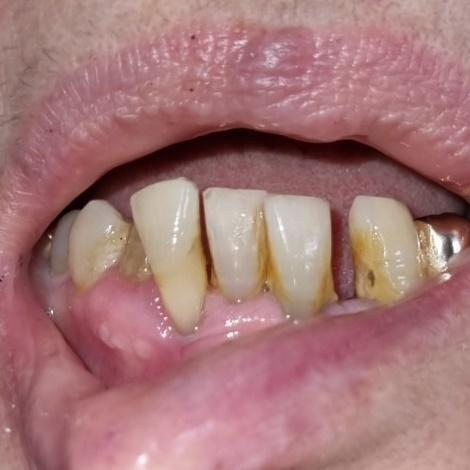Gap: (274, 193, 407, 305)
